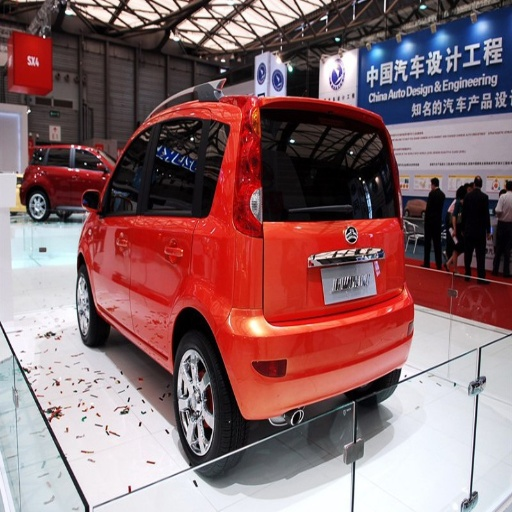back_bumper: (225, 279, 415, 417)
back_glass: (291, 121, 391, 216)
front_glass: (170, 133, 223, 214)
trunk: (263, 209, 402, 323)
